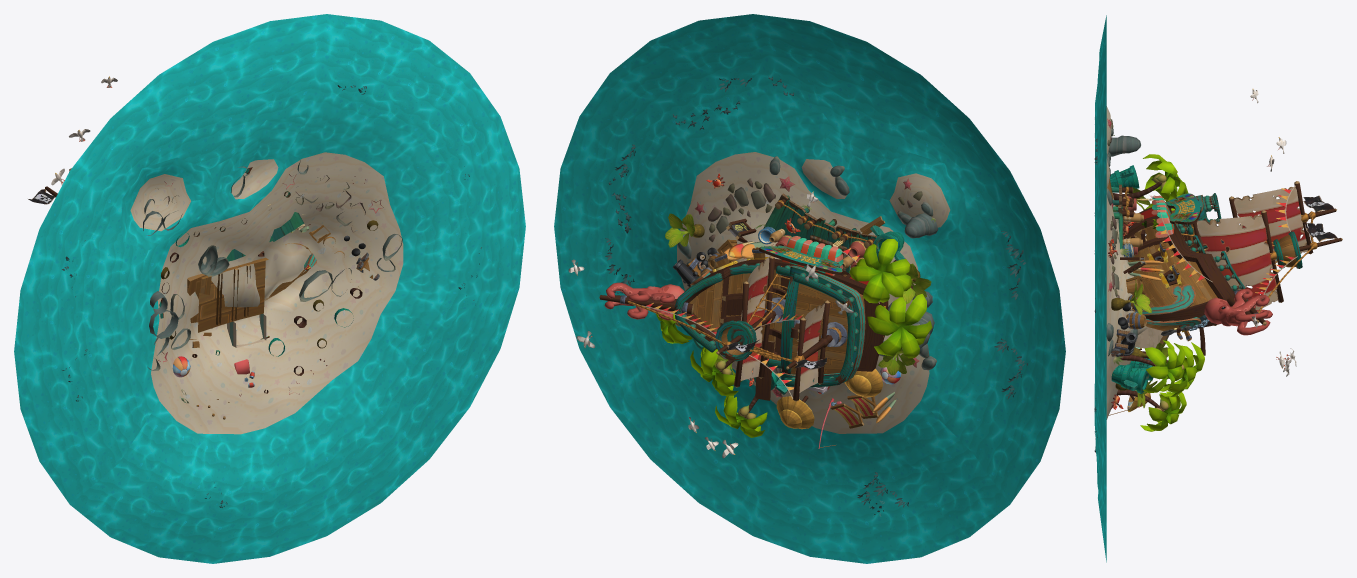
Rendered from pirate_scene.fbx.
3 views of the same model, side by side, from view 1: azimuth 30°, elevation 25°; view 2: azimuth 150°, elevation 25°; view 3: azimuth 270°, elevation 25° (orthographic). The views are drawn at different scales.
Parts seen in each view (by area): view 1: Ship1; view 2: Ship1; view 3: Ship1.
Boxes of the visible parts, <box> form: Ship1: <box>14,14,525,563</box>; Ship1: <box>554,14,1065,563</box>; Ship1: <box>1094,15,1342,562</box>.
Bounding box in the file's own units: 1055 × 1055 × 477.
